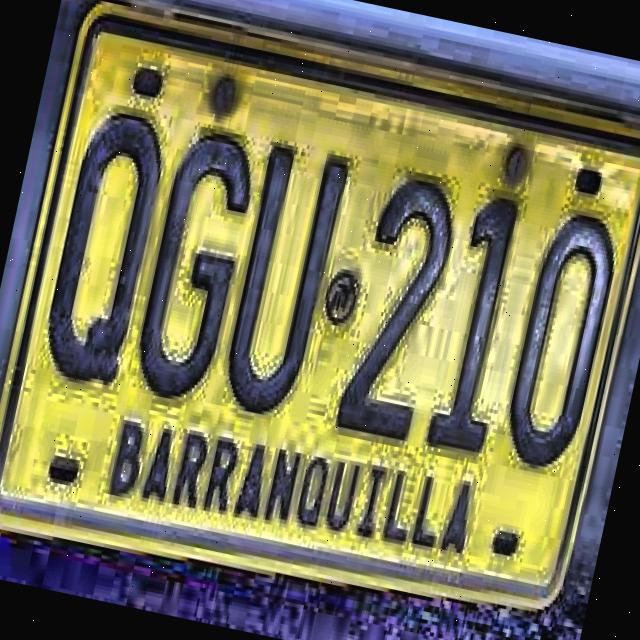plate: (0, 5, 640, 605)
